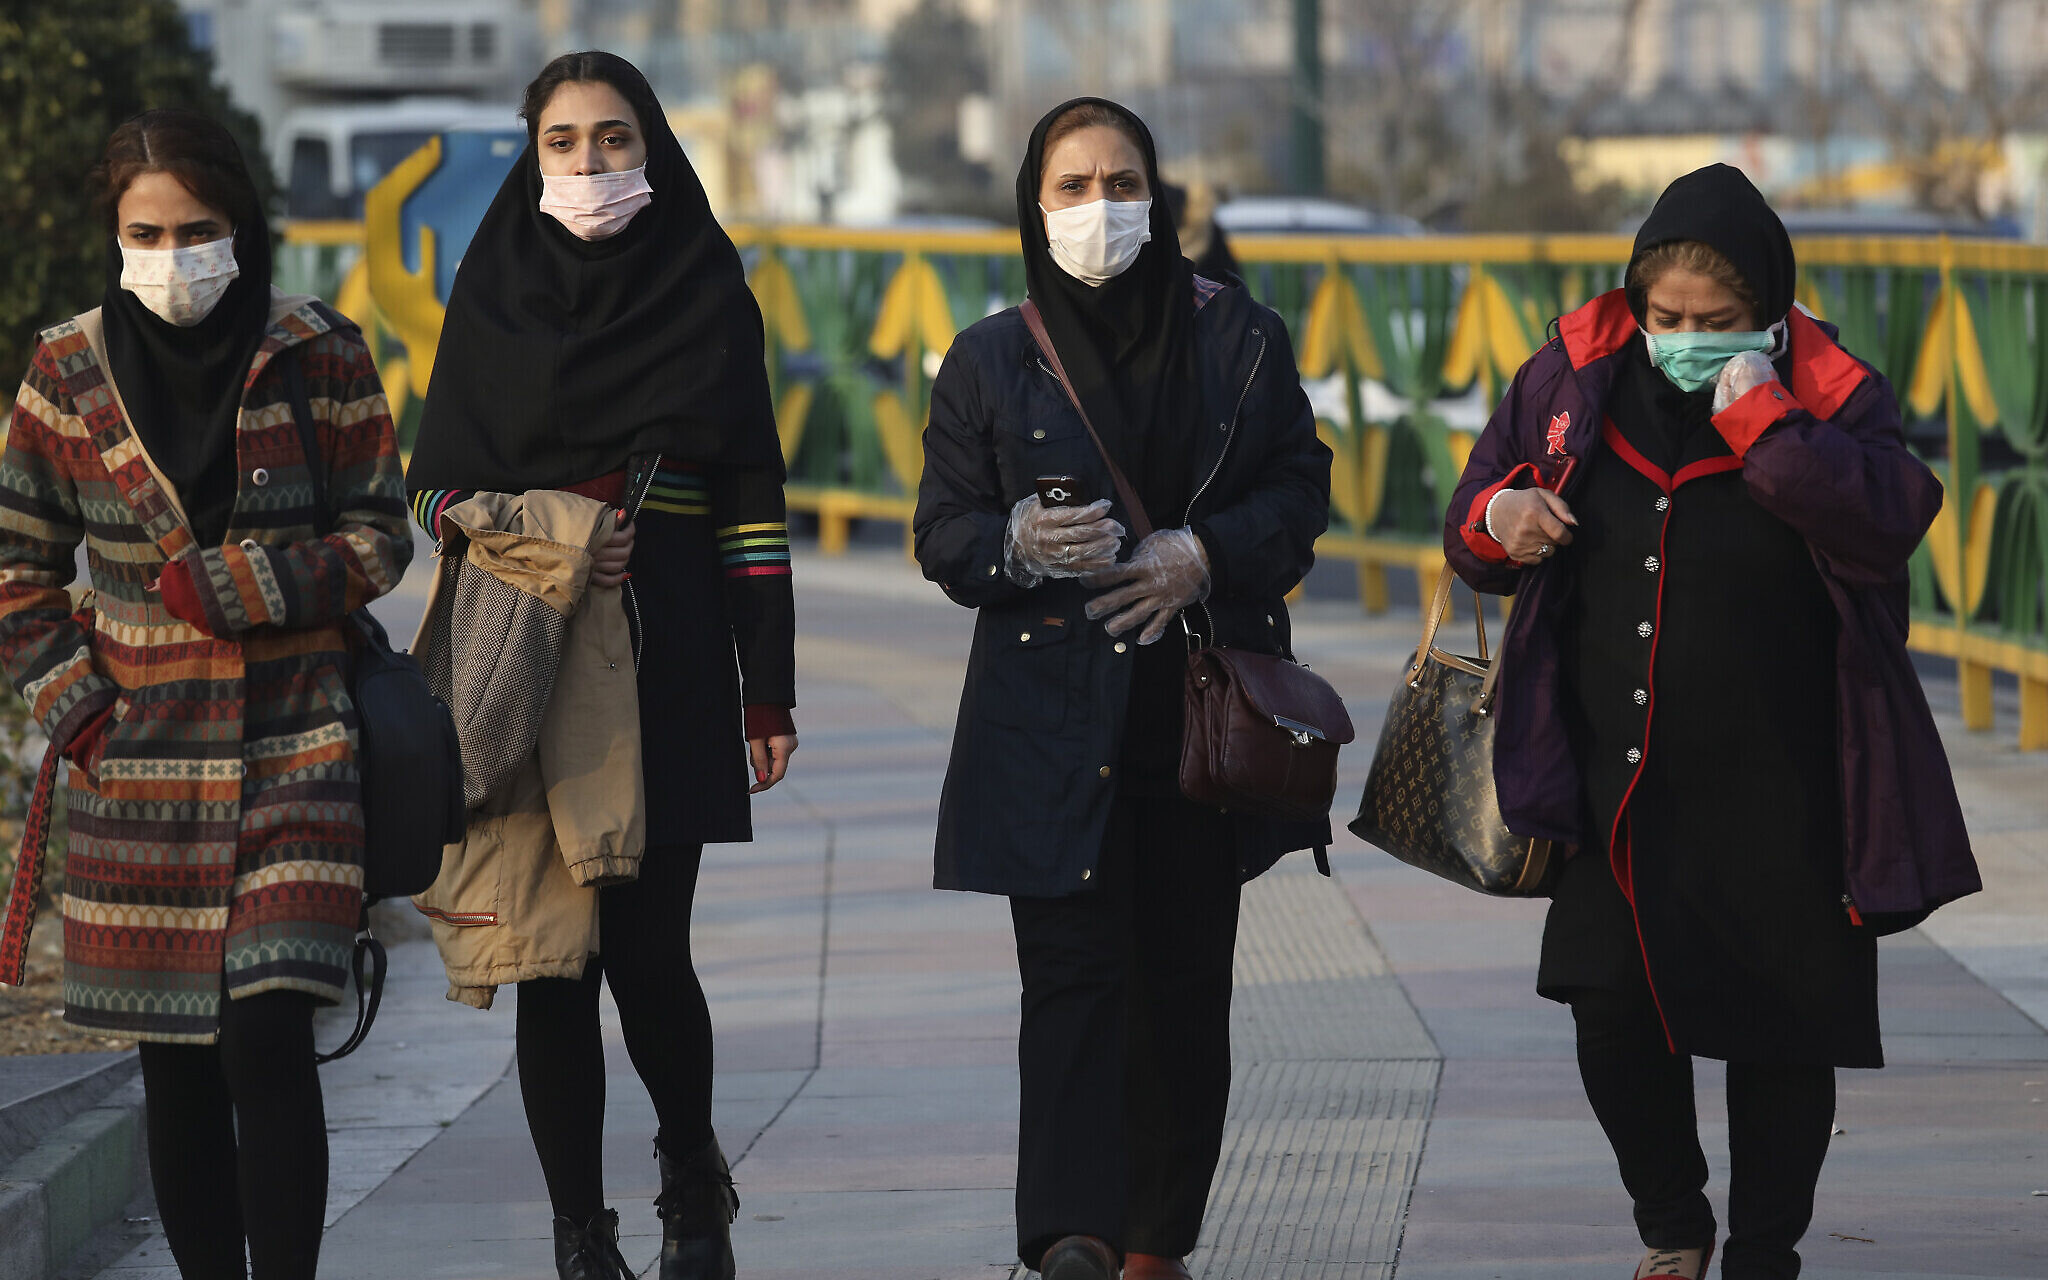Person: (1482, 173, 1890, 1256), (15, 139, 390, 1273), (457, 56, 790, 1239), (974, 123, 1307, 1223)
